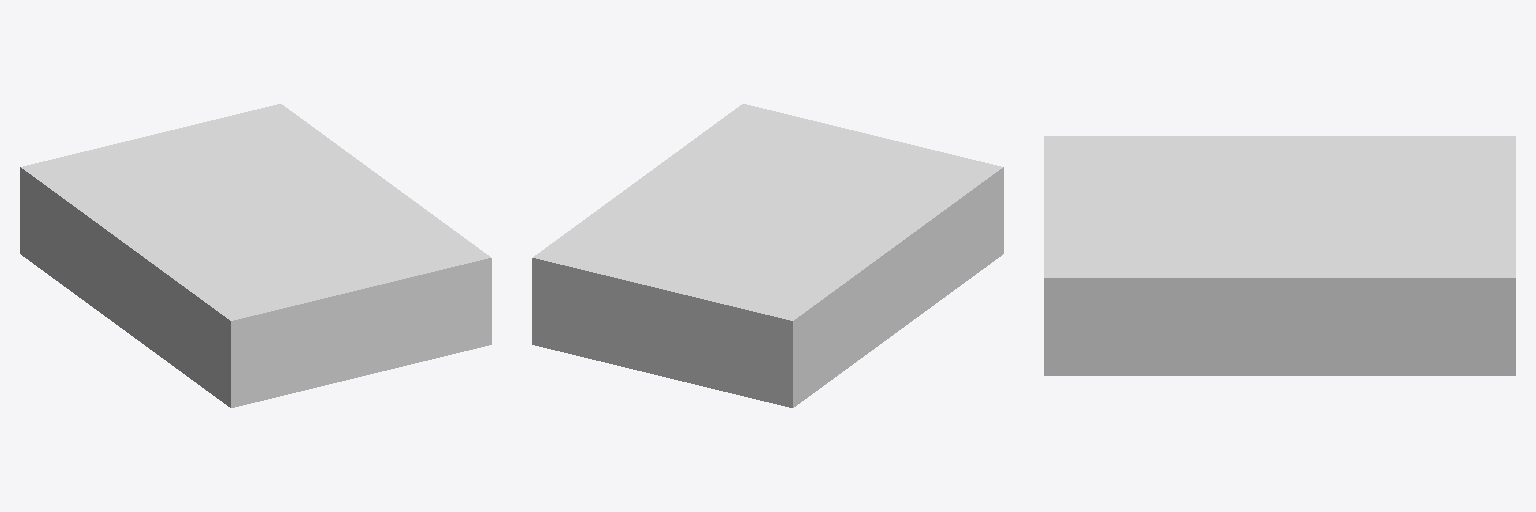
robot.urdf — table:
<?xml version="1.0" ?>

<robot name="table">
    <material name="White">
        <color rgba="0.93 0.93 0.93 1"/>
    </material>
    <!-- table -->
    <link name="table">
        <contact>
            <lateral_friction value="0.01"/>
        </contact>
        <inertial>
            <origin rpy="0 0 0" xyz="0 0 0"/>
            <mass value="0"/>
            <inertia ixx="0.1" ixy="0" ixz="0" iyy="0.1" iyz="0" izz="0.1"/>
        </inertial>
        <visual>
            <origin rpy="0 0 0" xyz="0 0 0"/>
            <geometry>
                <box size="0.5 0.7 0.16"/>
            </geometry>
            <material name="White"/>
        </visual>
        <collision>
            <origin rpy="0 0 0" xyz="0 0 0"/>
            <geometry>
                <box size="0.5 0.7 0.16"/>
            </geometry>
        </collision>
    </link>
</robot>

--- What the picture shows (computed from the rendered views, not written in the file) ---
Views: 3 orthographic renders of the robot side by side, from view 1: azimuth 30°, elevation 25°; view 2: azimuth 150°, elevation 25°; view 3: azimuth 270°, elevation 25°.
Model table with 1 links and 0 joints (none), rooted at table, posed every joint at zero.
Links seen in each view (by area): view 1: table; view 2: table; view 3: table.
Link boxes in pixels (<box>): table: <box>20,104,491,407</box>; table: <box>532,104,1003,407</box>; table: <box>1044,136,1515,375</box>.
Size in the robot's own frame: 0.5 by 0.7 by 0.16 metres.
Geometry: primitives only (box / cylinder / sphere), no mesh files.